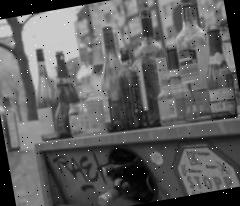glass: (17, 0, 240, 150), (0, 85, 23, 155)
